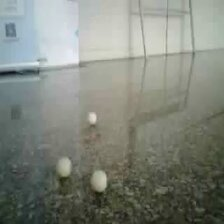w: (90, 169, 107, 191), (55, 157, 71, 177), (86, 111, 97, 123)
